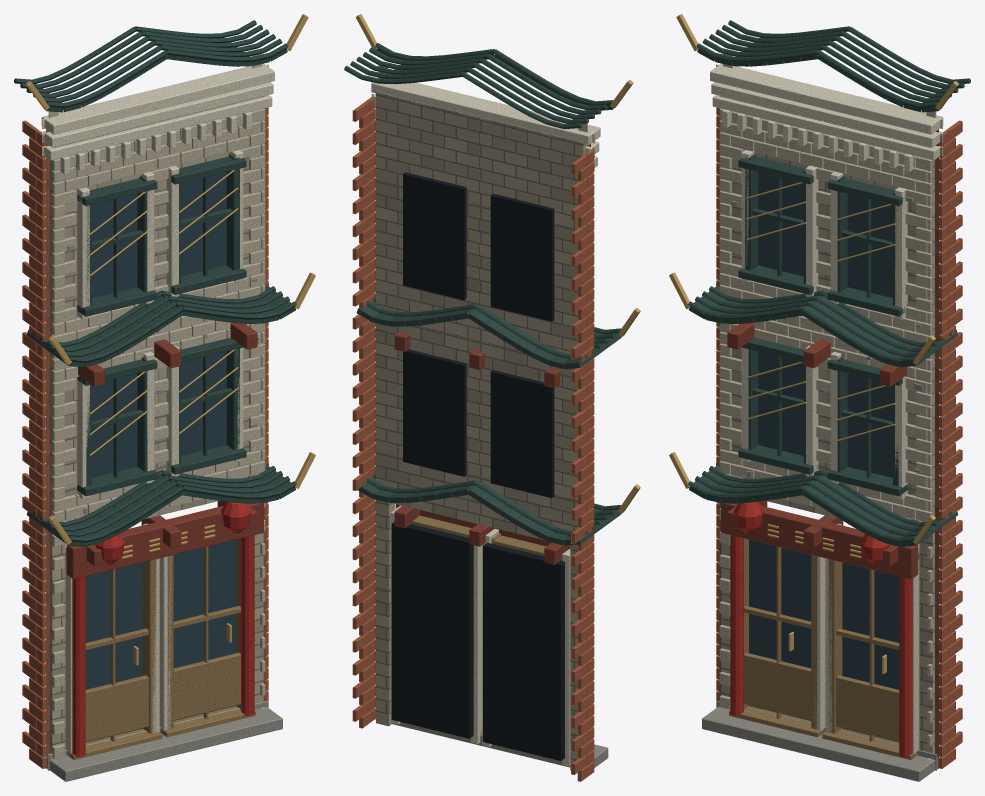
The model's file is CHINA12_lod0.glb.
The picture shows the model from 3 angles, left to right: view 1: azimuth 30°, elevation 25°; view 2: azimuth 150°, elevation 25°; view 3: azimuth 330°, elevation 25°; orthographic projection.
Visible parts, largest first — view 1: CHINA12_FRONT_LOD0; view 2: CHINA12_FRONT_LOD0; view 3: CHINA12_FRONT_LOD0.
Part boxes in pixels (x1,y1,x2,y2): CHINA12_FRONT_LOD0: [14, 14, 315, 781]; CHINA12_FRONT_LOD0: [344, 14, 640, 781]; CHINA12_FRONT_LOD0: [669, 14, 970, 781].
Bounding box in the file's own units: 4.25 × 10.17 × 1.3.
Materials: 18 (15 with a texture image).
